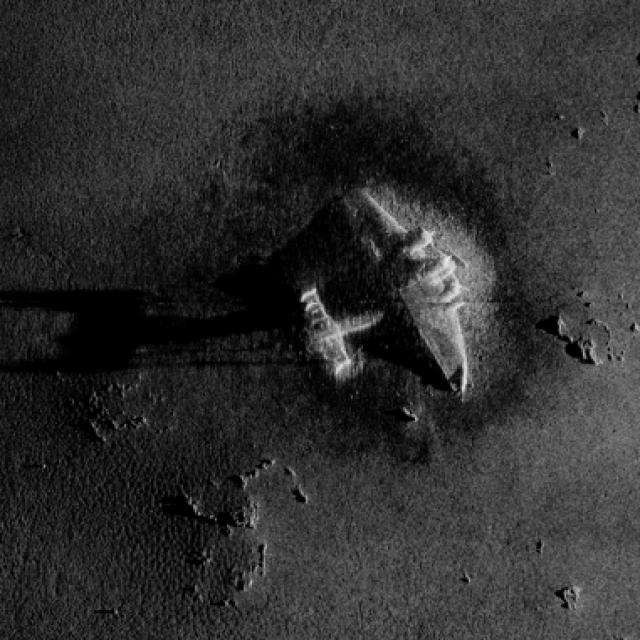plane: (286, 181, 478, 401)
